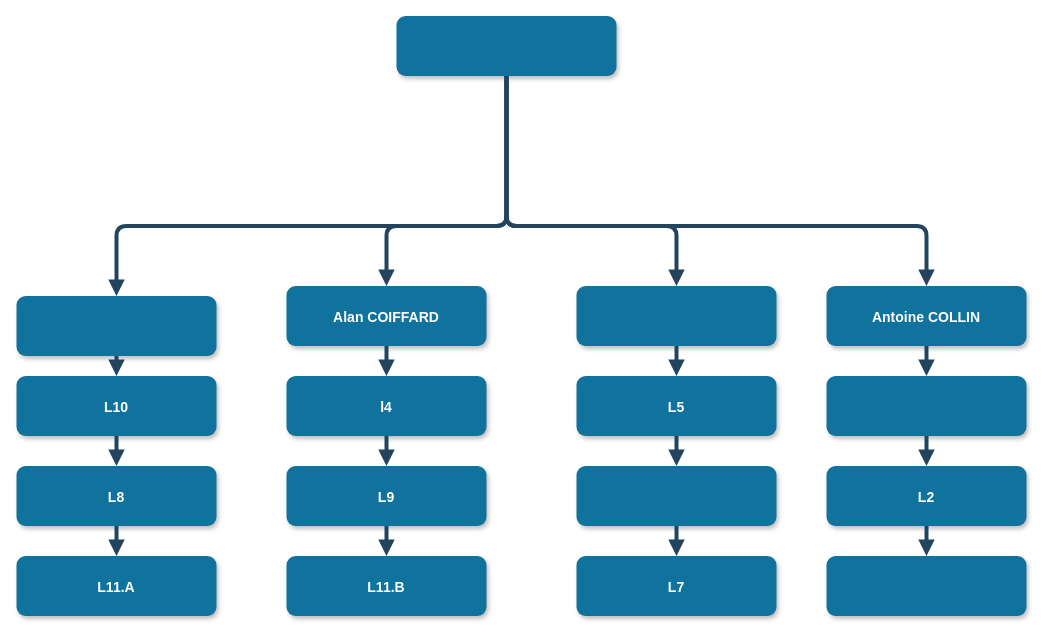
Image size: 1043x632. Some labels were removed from this diagram. The shapes that lost their labels are listed below. From the top down, each one's centre as x and y in pixels, then its label:
At (507,47): "Responsabilites".
At (117,327): "Julian LEBOUC".
At (677,317): "Ambre DAIGREMONT (chef de projet)".
At (927,407): "L1".
At (677,497): "L6".
At (927,587): "L3".
